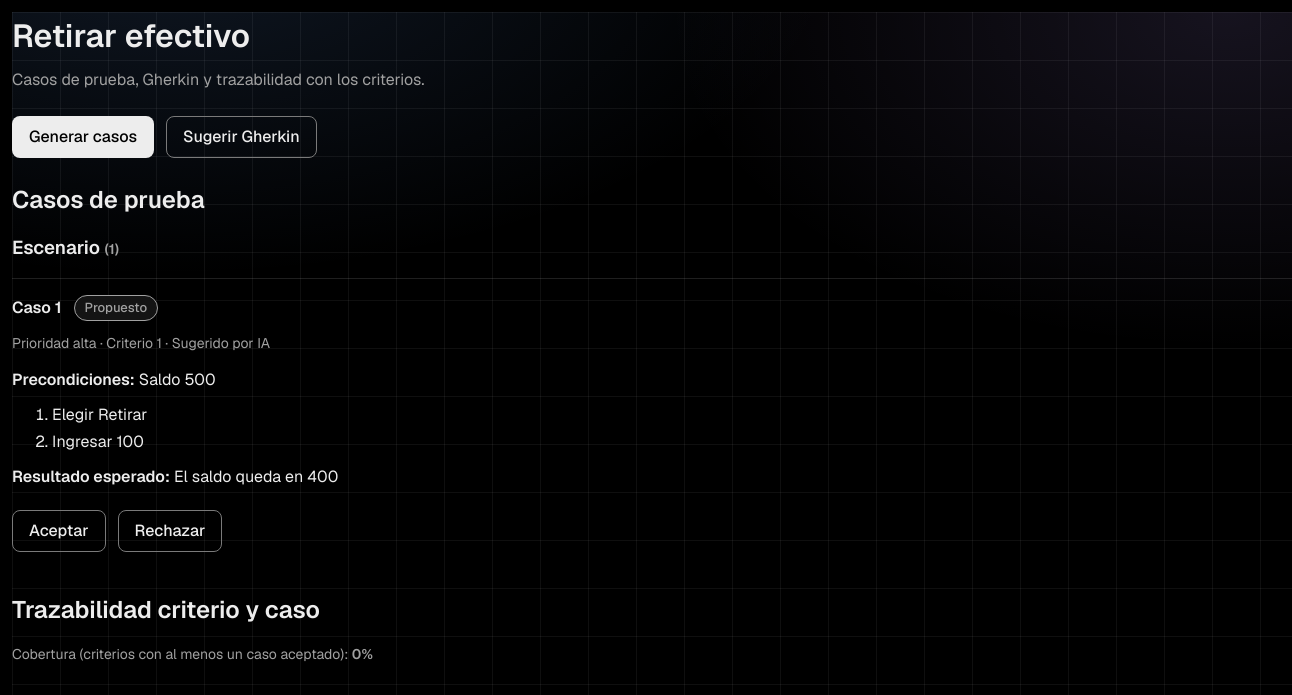
Scenario: TestsPage › un fallo al cambiar el estado se muestra junto al caso
Click the button with aria-label "Aceptar caso Caso 1": {"x": 59, "y": 531} [12,510,106,552]
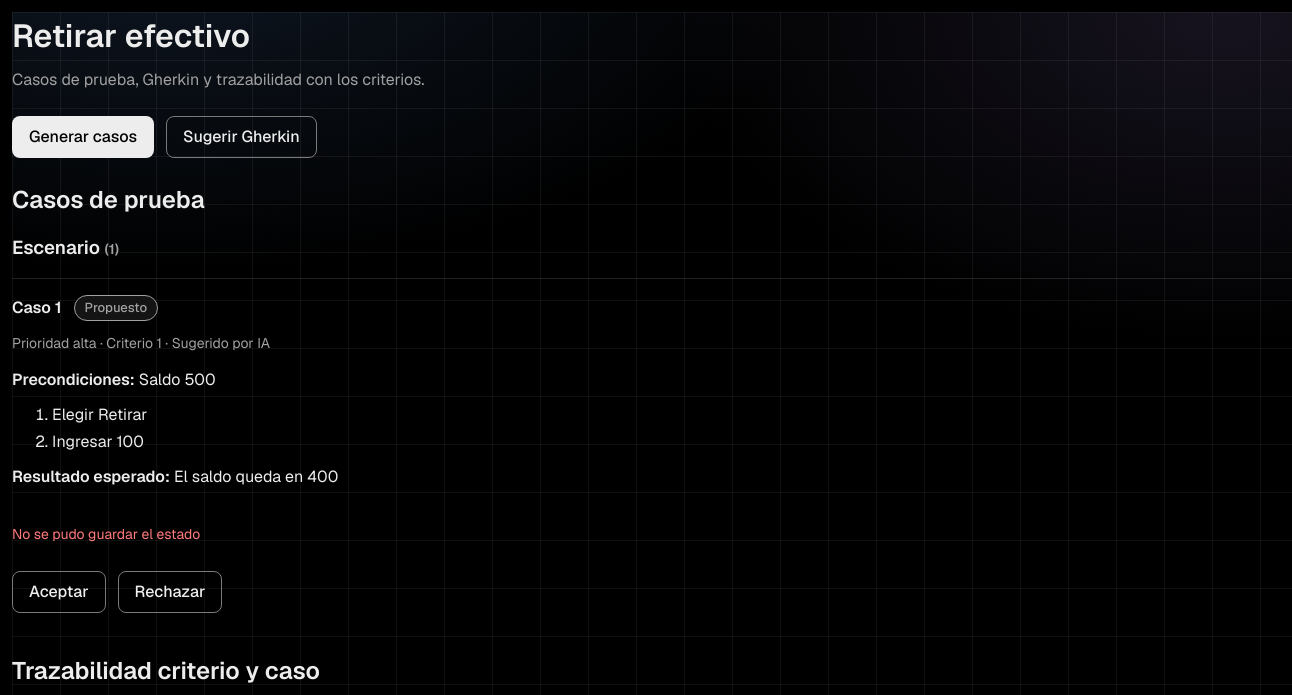
Expected: the text "Propuesto" is shown, [74,295,158,321]
Now the message reads "No se pudo guardar el estado", box [12,525,200,543]
